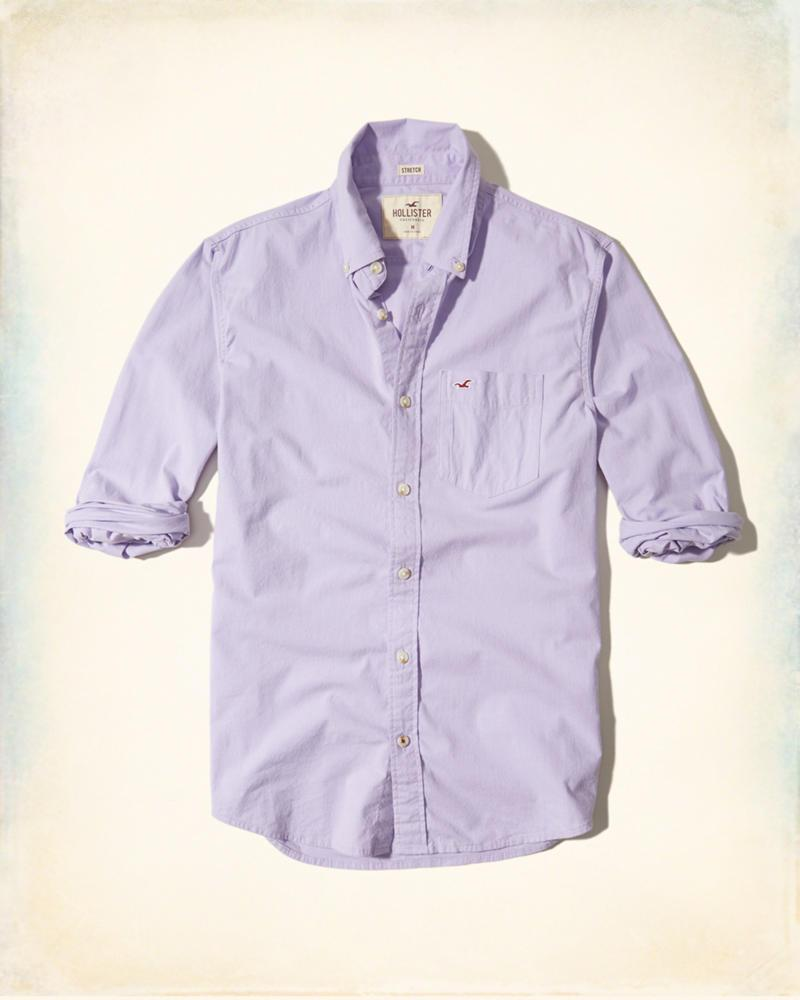teeshirt: (71, 107, 750, 877)
